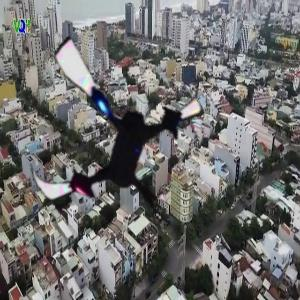drone: (11, 28, 214, 231)
